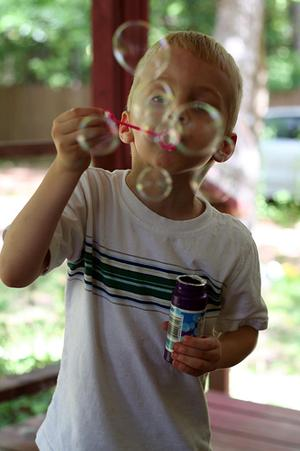person: (2, 34, 267, 451)
